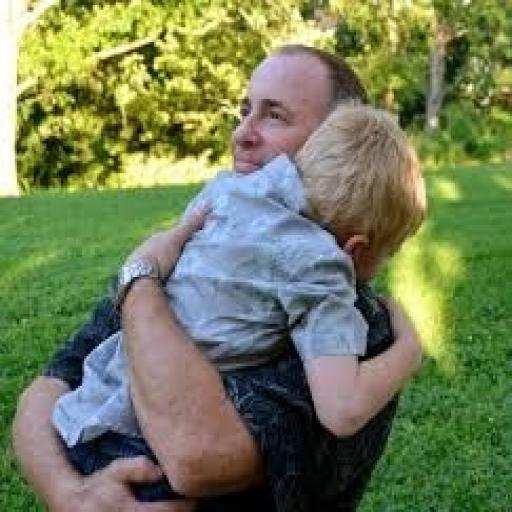hugging: (6, 40, 430, 510)
